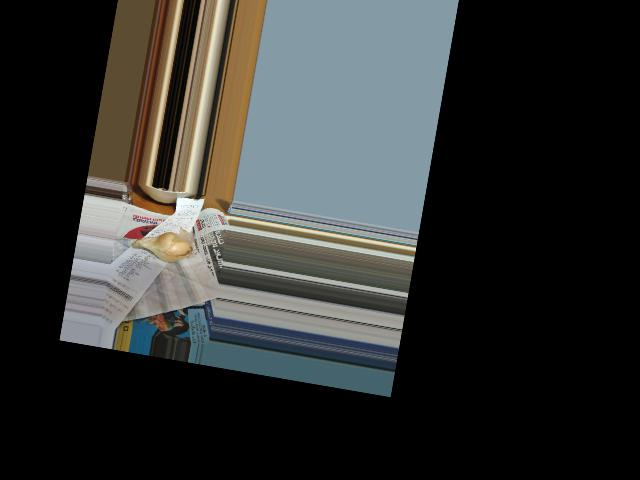onion: (133, 228, 192, 266)
